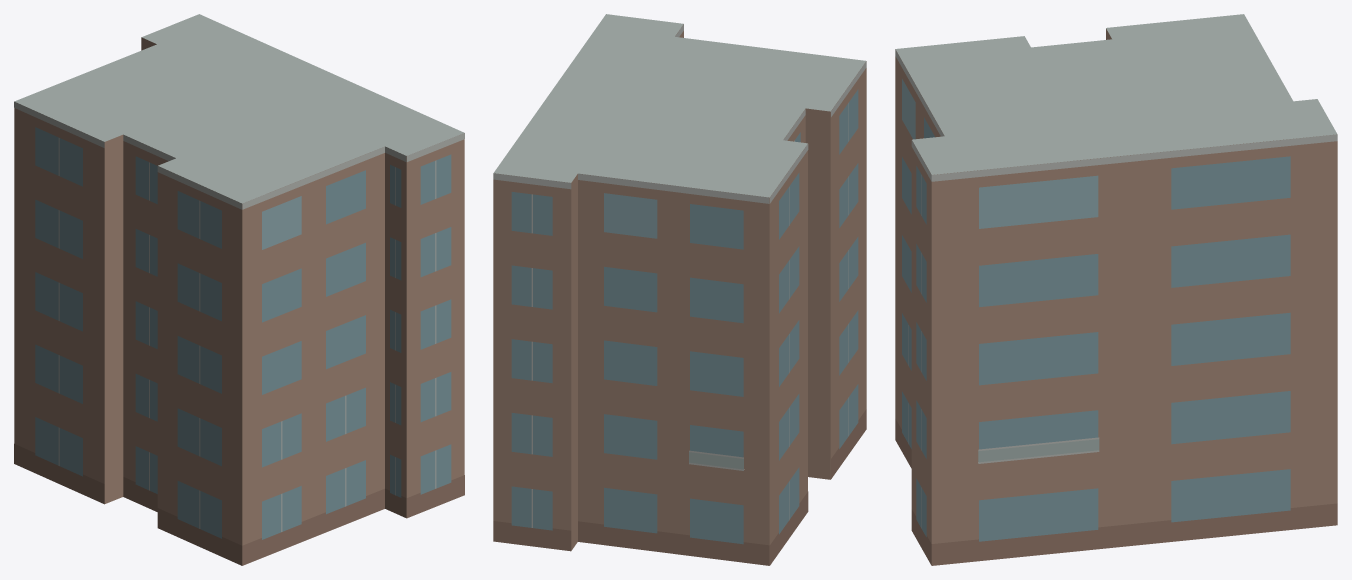
Rendered from survey-upis-32784168.glb.
3 renders of one model, left to right at view 1: azimuth 30°, elevation 25°; view 2: azimuth 150°, elevation 25°; view 3: azimuth 270°, elevation 25°, orthographic. The views are drawn at different scales.
Visible parts, largest first — view 1: survey-upis-32784168.tmp; view 2: survey-upis-32784168.tmp; view 3: survey-upis-32784168.tmp.
Boxes of the visible parts, x1,y1,x2,y2 form: survey-upis-32784168.tmp: [14, 14, 464, 565]; survey-upis-32784168.tmp: [493, 14, 866, 565]; survey-upis-32784168.tmp: [895, 14, 1337, 565].
Bounding box in the file's own units: 12.37 × 14 × 14.36.
